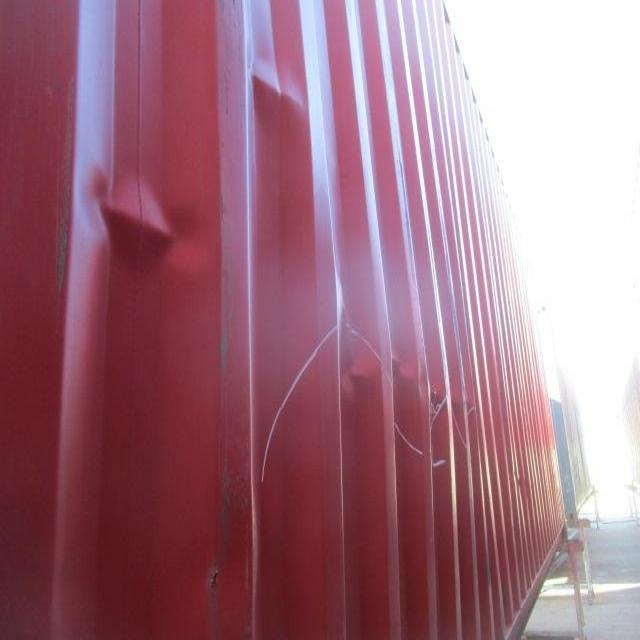Dent: (245, 274, 485, 482)
Minor-Dent: (66, 143, 229, 301), (238, 37, 318, 140)
